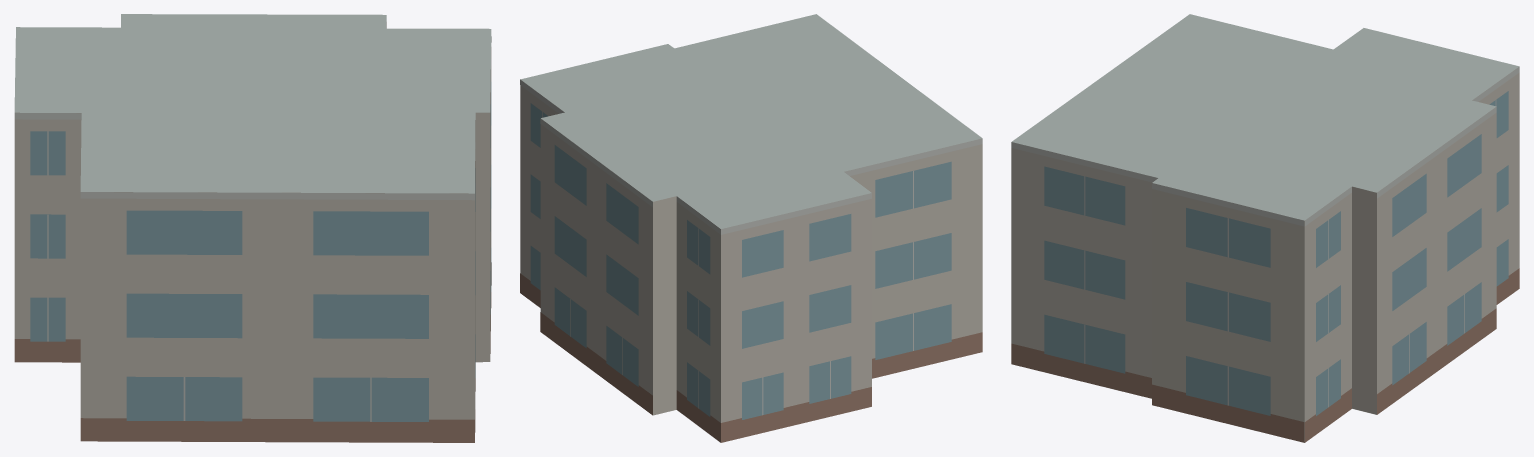
Rendered from survey-upis-32722110.glb.
3 renders of one model, left to right at view 1: azimuth 30°, elevation 25°; view 2: azimuth 150°, elevation 25°; view 3: azimuth 270°, elevation 25°, orthographic. The views are drawn at different scales.
Visible parts, largest first — view 1: survey-upis-32722110.tmp; view 2: survey-upis-32722110.tmp; view 3: survey-upis-32722110.tmp.
Part boxes in pixels (<box>): survey-upis-32722110.tmp: <box>14,14,491,442</box>; survey-upis-32722110.tmp: <box>520,14,982,442</box>; survey-upis-32722110.tmp: <box>1011,14,1519,442</box>.
Size of the model in its own units: 18.16 by 9.1 by 18.87.
